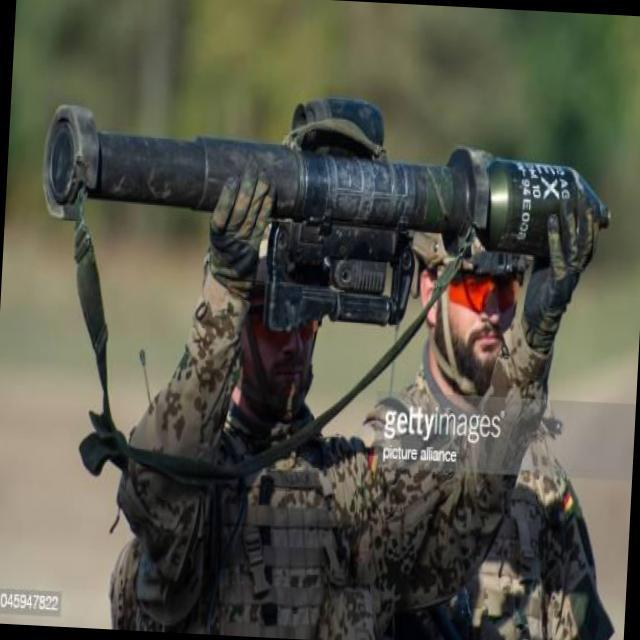rocket: (26, 89, 622, 345)
